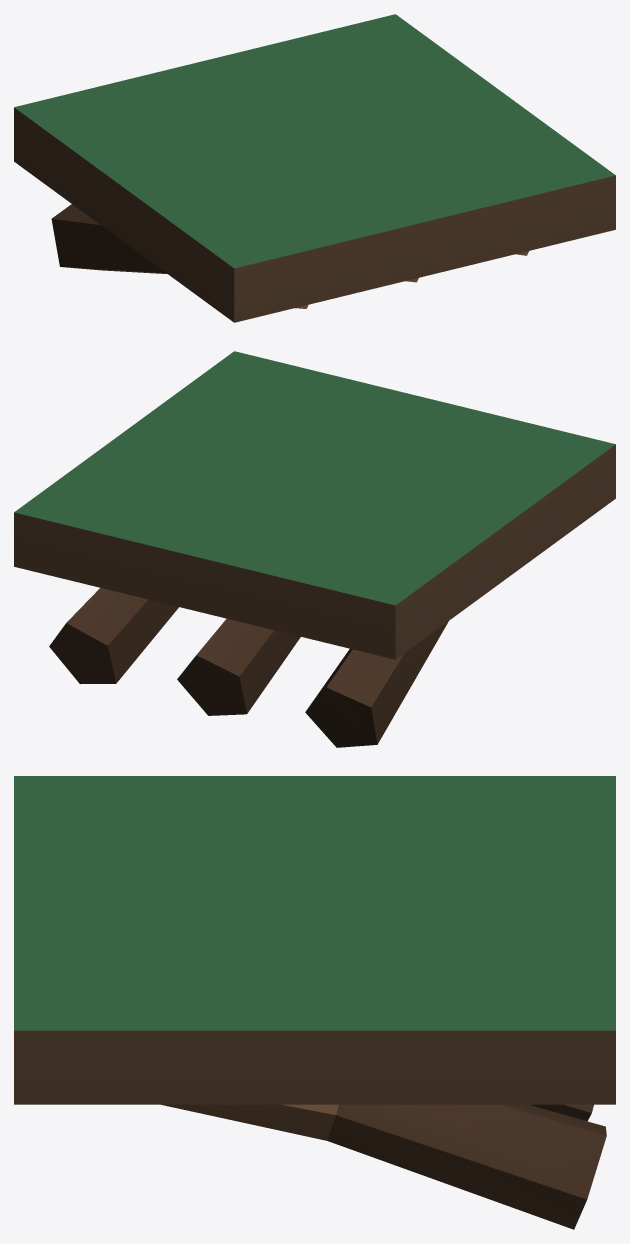
Rendered from custom-degrau-raiz.glb.
3 views of the same model, one above another, from view 1: azimuth 30°, elevation 25°; view 2: azimuth 150°, elevation 25°; view 3: azimuth 270°, elevation 25° (orthographic). The views are drawn at different scales.
Parts seen in each view (by area): view 1: degrau-raiz; view 2: degrau-raiz; view 3: degrau-raiz.
Boxes of the visible parts, x1,y1,x2,y2 form: degrau-raiz: (14,14,615,322); degrau-raiz: (14,351,615,747); degrau-raiz: (14,776,615,1229).
Bounding box in the file's own units: 2.5 × 1.07 × 2.5.
